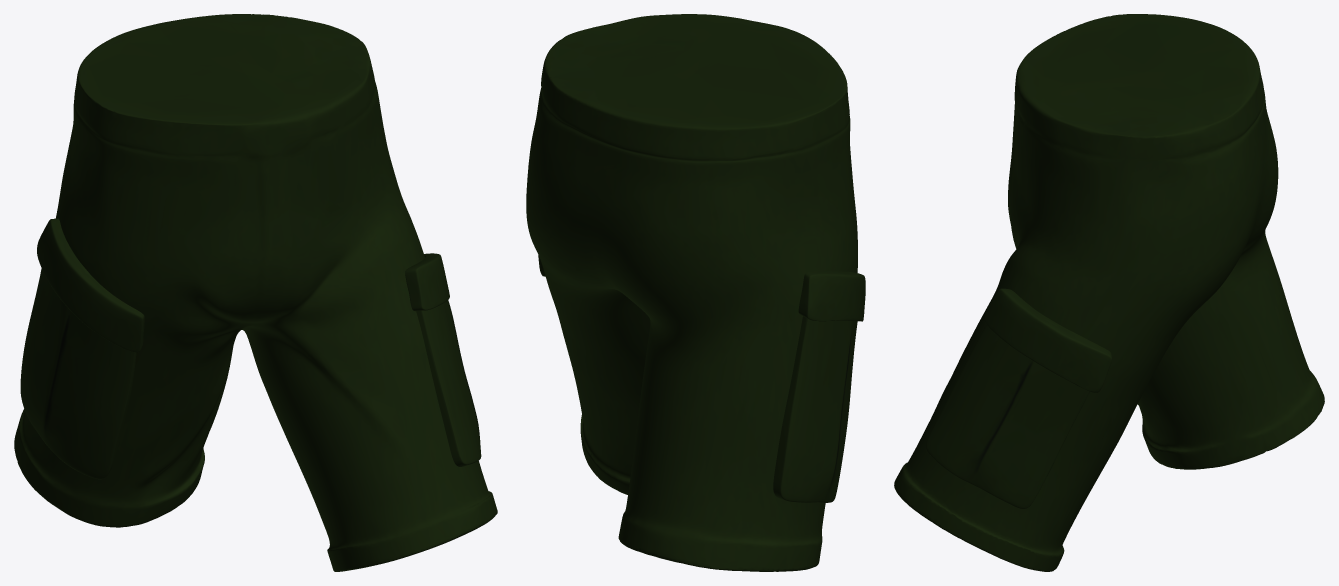
The model's file is Male_Shorts_Green.glb.
3 views of the same model, side by side, from view 1: azimuth 30°, elevation 25°; view 2: azimuth 150°, elevation 25°; view 3: azimuth 270°, elevation 25° (orthographic). The views are drawn at different scales.
Parts seen in each view (by area): view 1: BOTTOMS - SHORTS GREEN 02; view 2: BOTTOMS - SHORTS GREEN 02; view 3: BOTTOMS - SHORTS GREEN 02.
Part boxes in pixels (x1,y1,x2,y2): BOTTOMS - SHORTS GREEN 02: (14, 14, 497, 571); BOTTOMS - SHORTS GREEN 02: (526, 14, 865, 571); BOTTOMS - SHORTS GREEN 02: (894, 14, 1324, 571).
Size of the model in its own units: 0.6251 by 0.8368 by 0.7376.
Materials: 1 (1 with a texture image).
